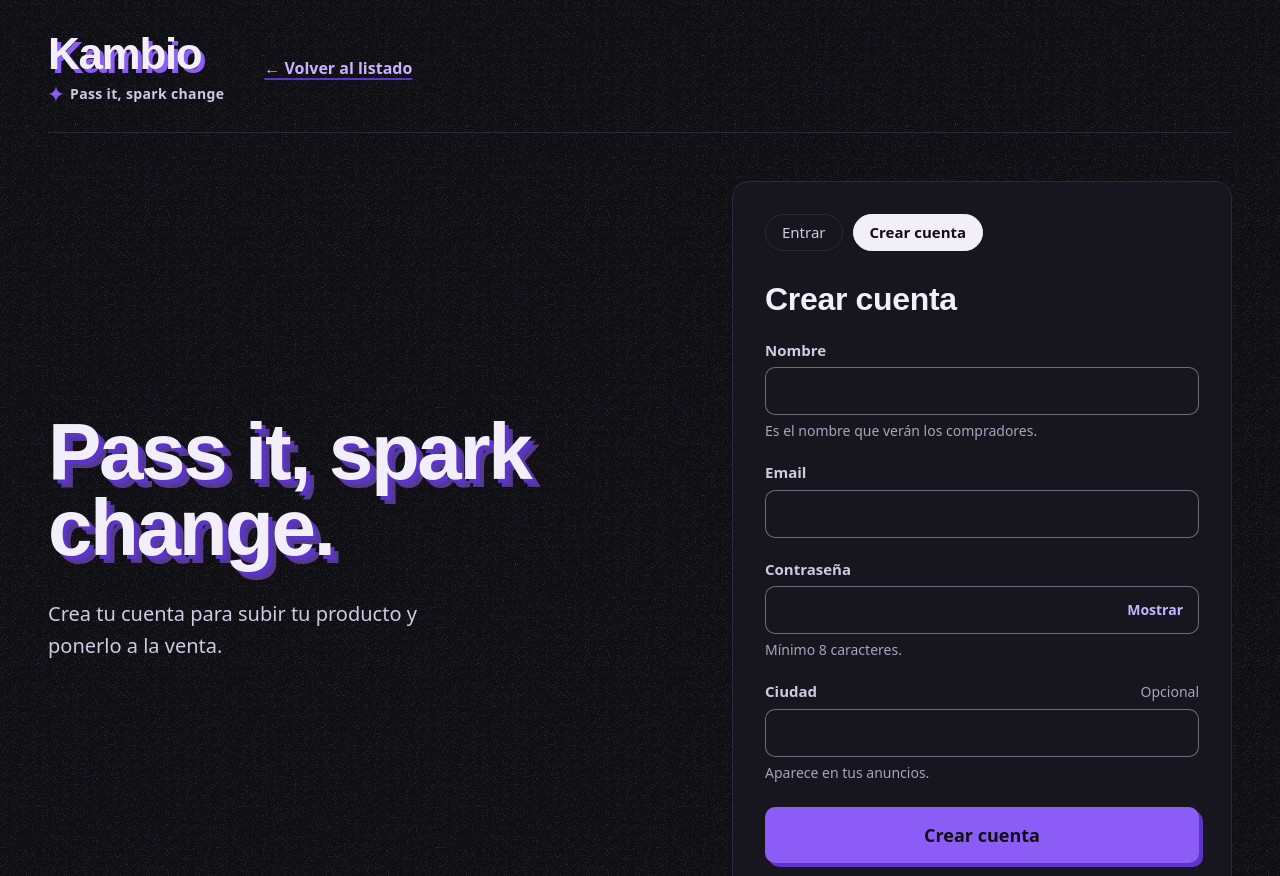
Scenario: RegisterPage › otro error del servidor se muestra en el formulario
This screenshot has width=1280, height=876.
In the field labelled "Nombre": (982, 391) [765,367,1199,415], type "Ana"
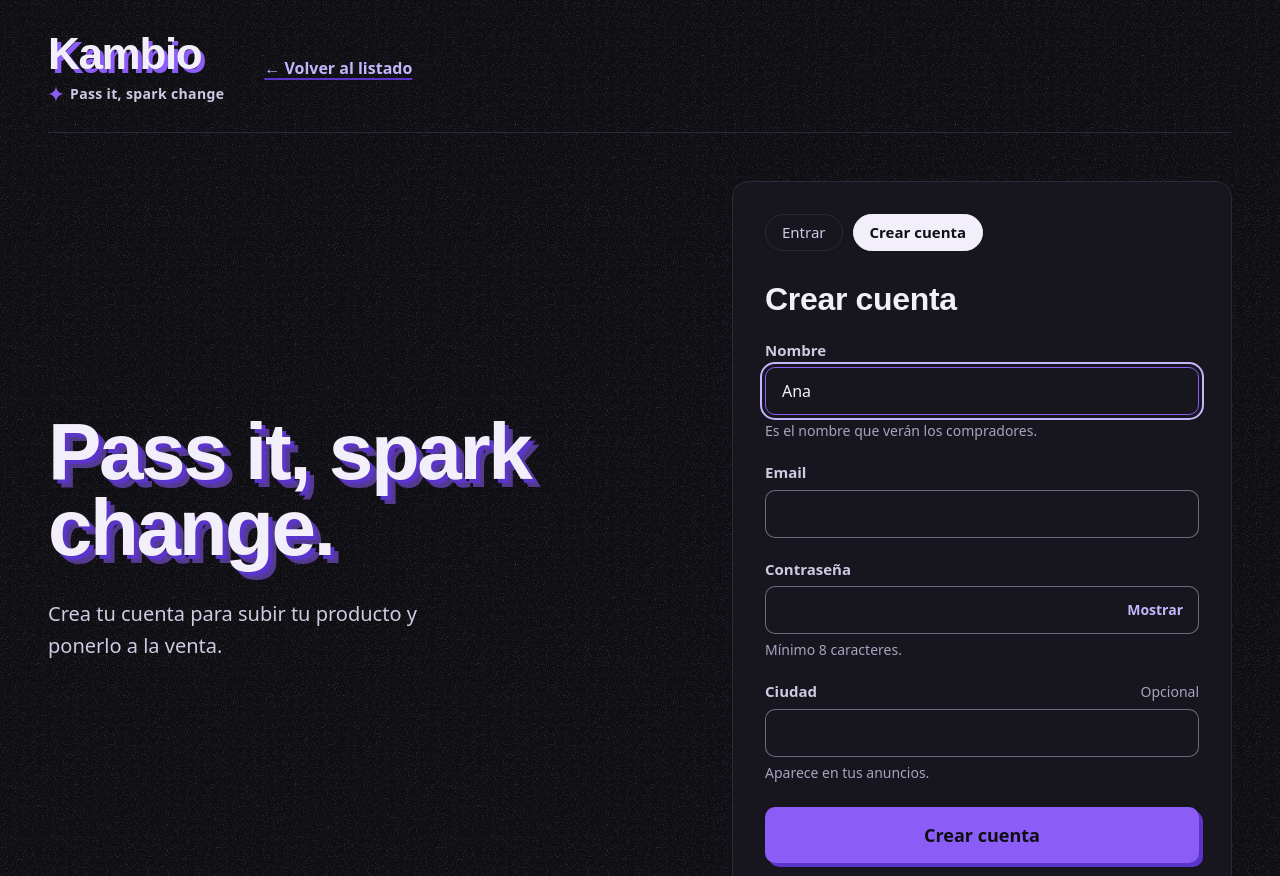
In the field labelled "Email": (982, 514) [765,490,1199,538], type "ana@correo.com"
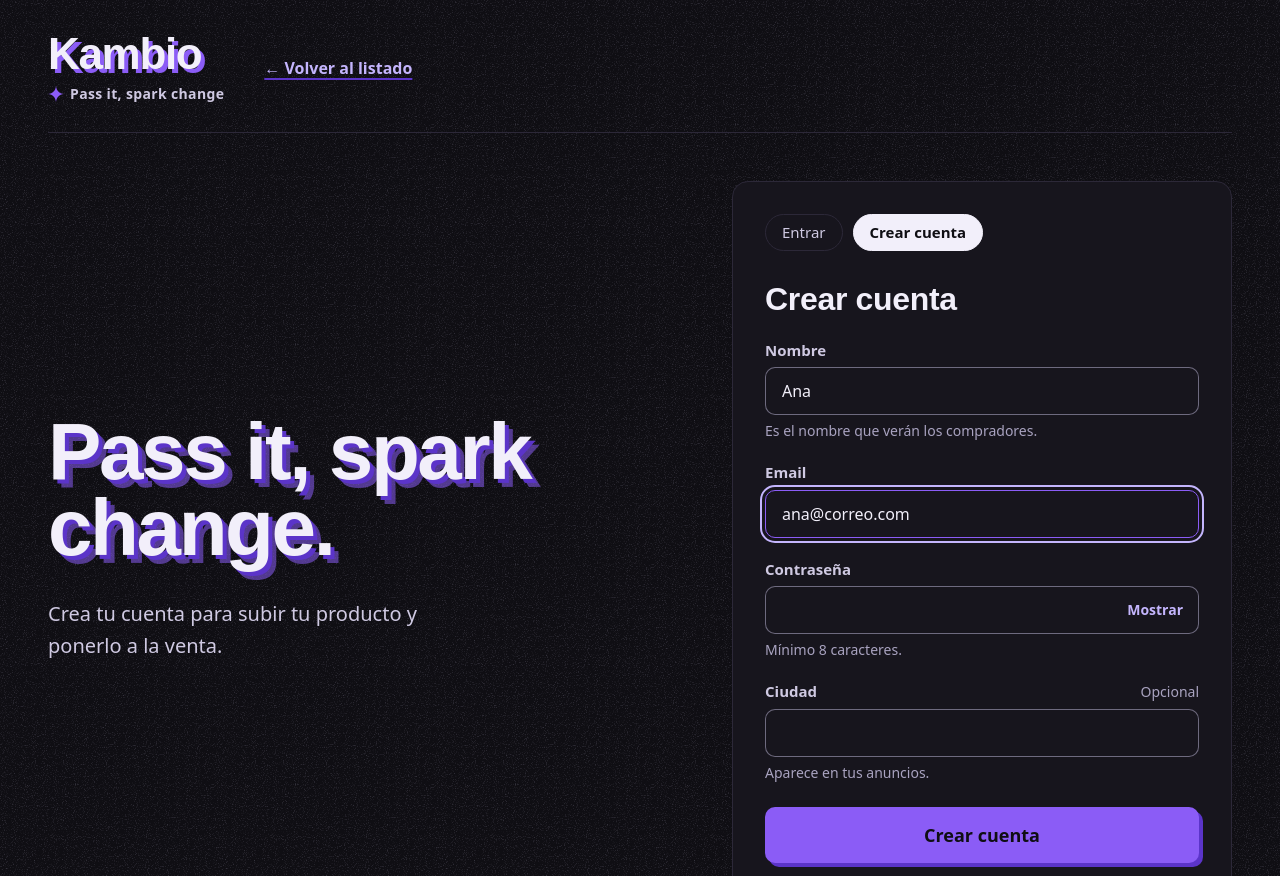
In the password field labelled "Contraseña": (982, 610) [765,586,1199,634], type "secreto123"
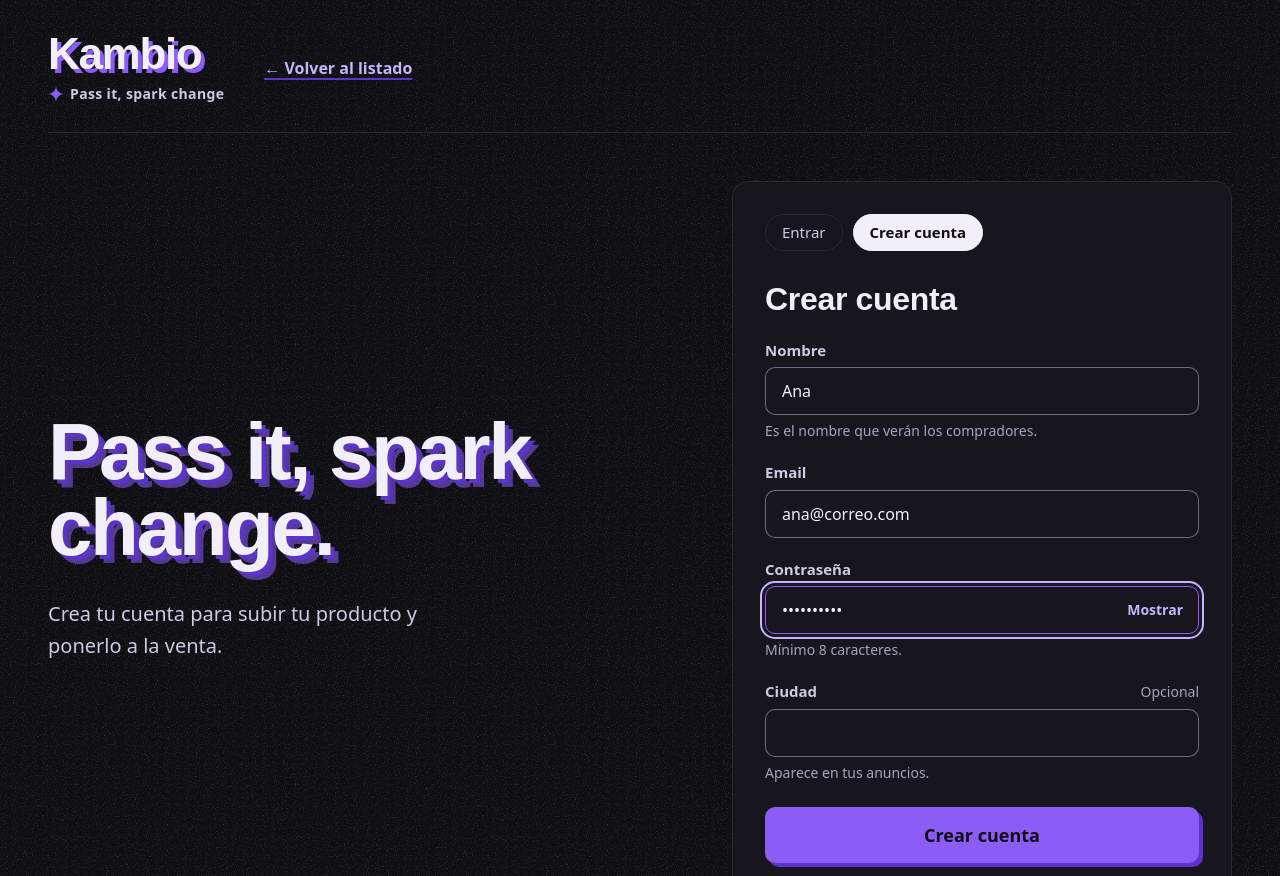
In the field labelled "Ciudad Opcional": (982, 732) [765,708,1199,756], type " Madrid "
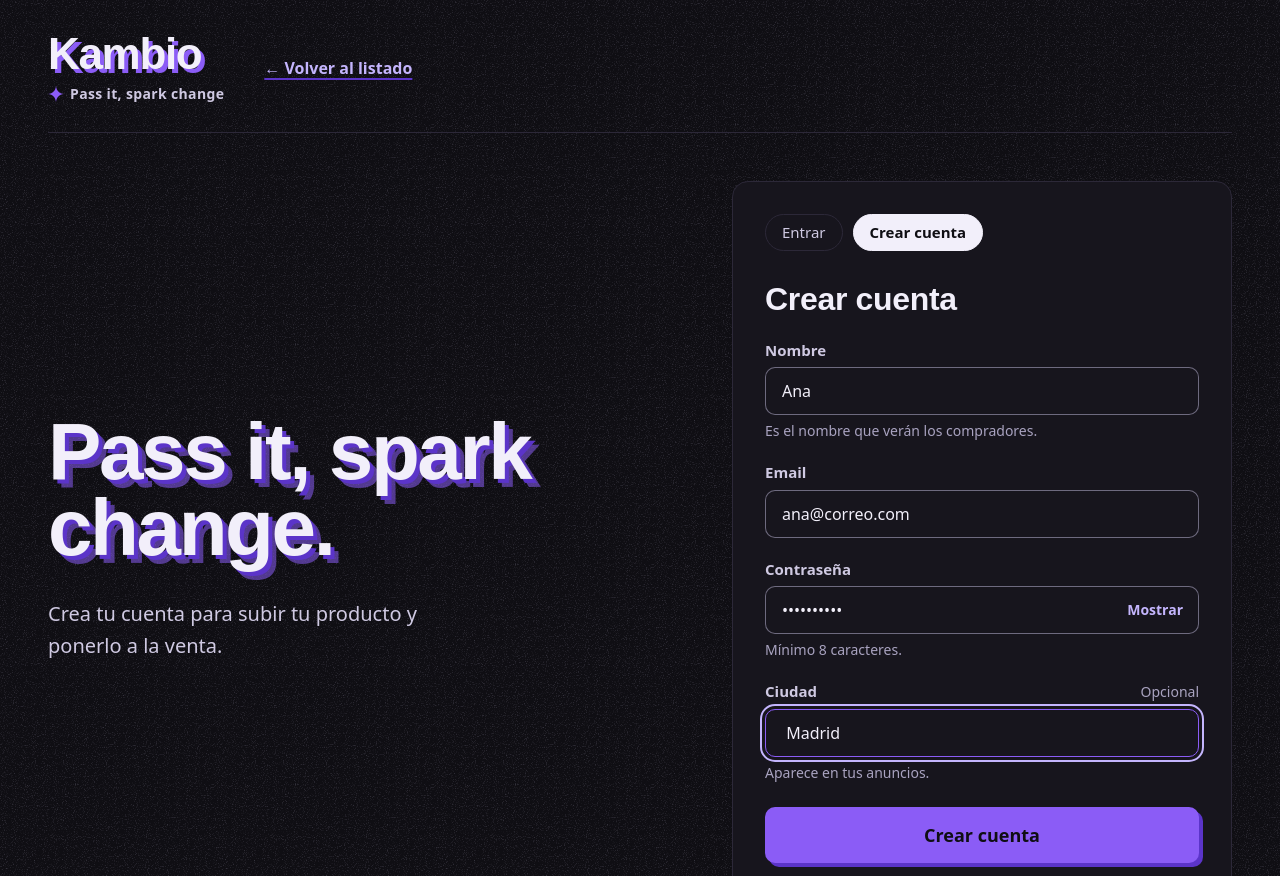
Click the button "Crear cuenta": (982, 834) [765,806,1199,862]
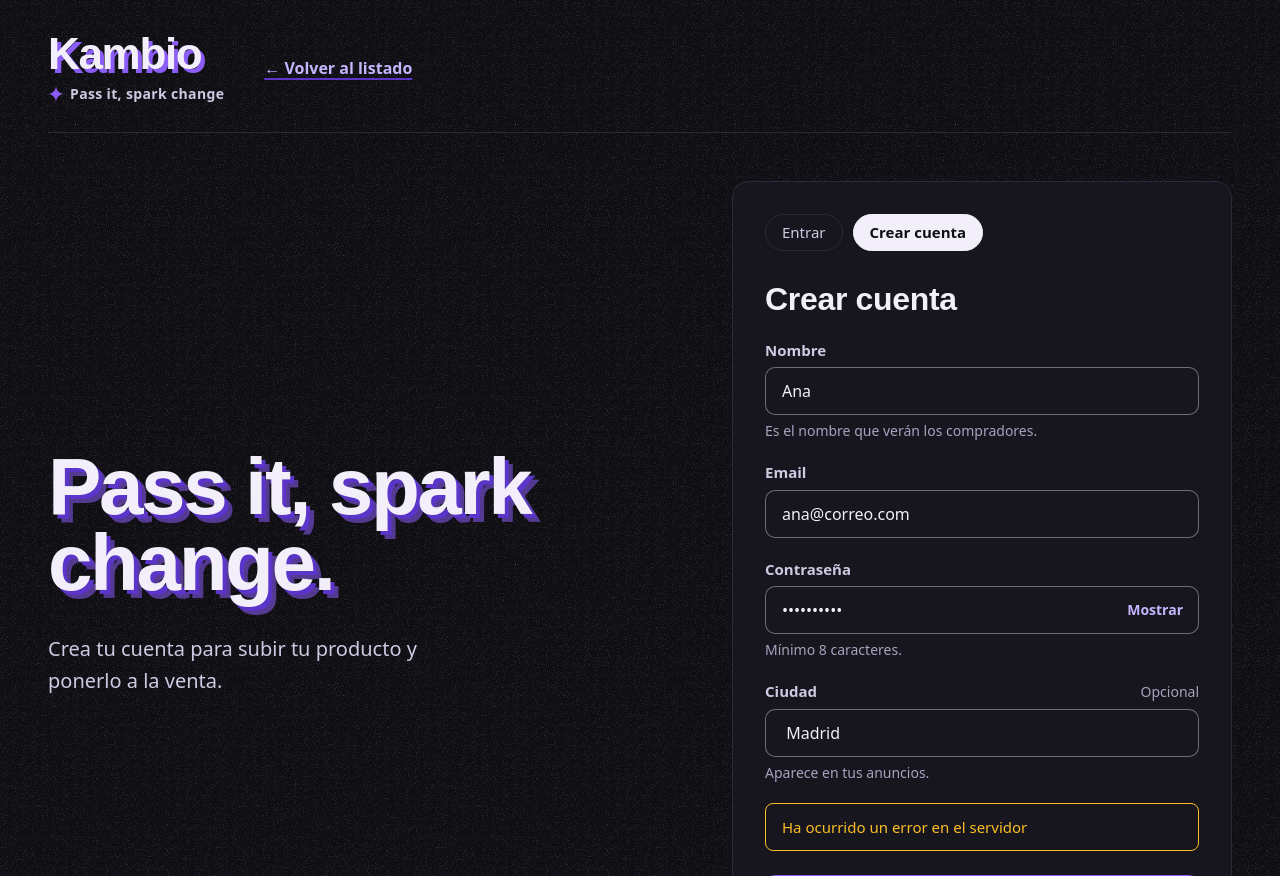
Now the message reads "Ha ocurrido un error en el servidor", box [782,816,1027,836]
